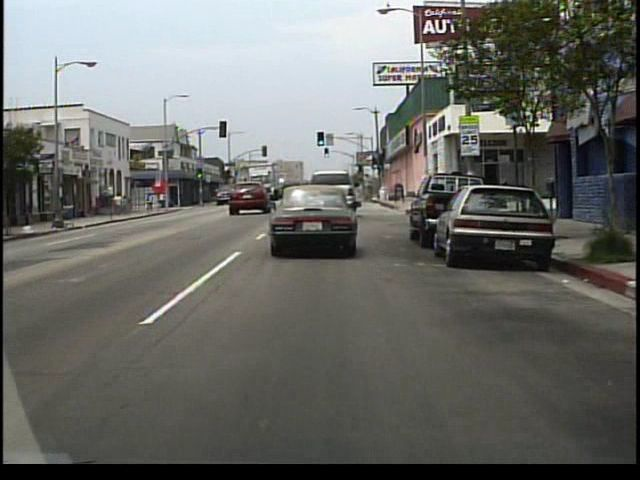person: (117, 193, 127, 218), (146, 192, 155, 212), (127, 195, 133, 216)
